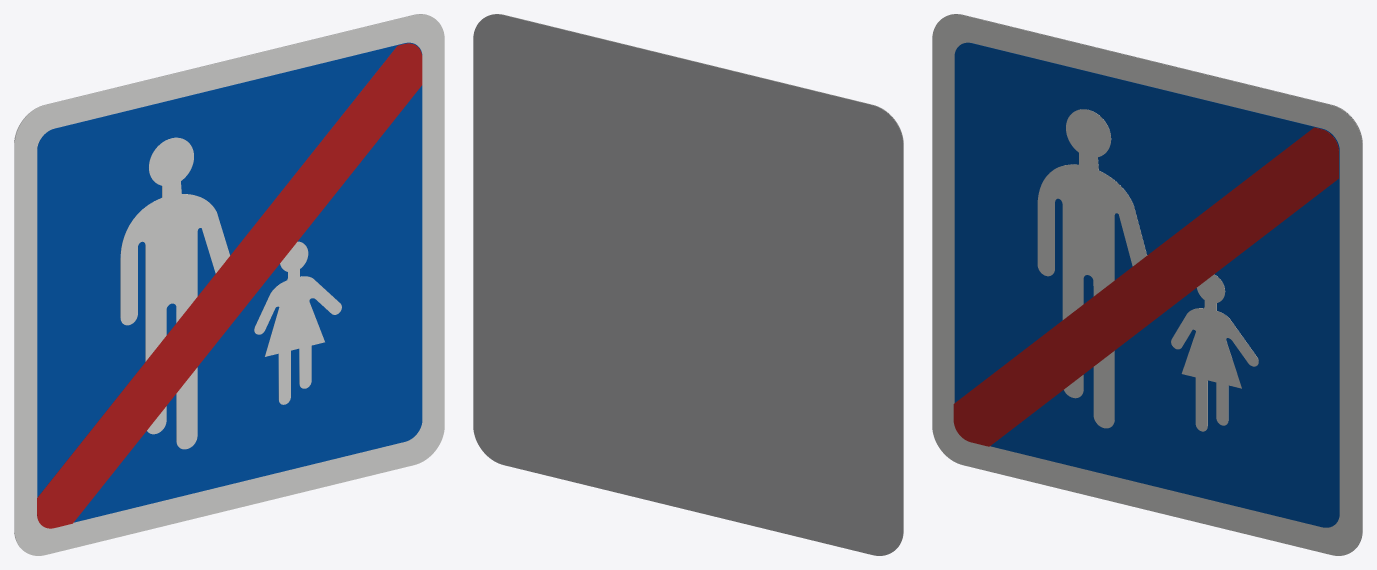
3 views of the same model, side by side, from view 1: azimuth 30°, elevation 25°; view 2: azimuth 150°, elevation 25°; view 3: azimuth 330°, elevation 25° (orthographic).
Visible parts, largest first — view 1: B55_p01, B55_p00, B55_p04, B55_p02, B55_p03, B55_dos; view 2: B55_dos, B55_p00; view 3: B55_p01, B55_p00, B55_p04, B55_p02, B55_p03, B55_dos.
Boxes of the visible parts, x1,y1,x2,y2 form: B55_p01: [37, 42, 422, 522]; B55_p00: [14, 14, 444, 555]; B55_p04: [37, 43, 422, 528]; B55_p02: [120, 137, 229, 449]; B55_p03: [254, 241, 341, 404]; B55_dos: [14, 14, 426, 546]; B55_dos: [473, 14, 903, 555]; B55_p00: [491, 14, 903, 546]; B55_p01: [954, 42, 1339, 527]; B55_p00: [932, 14, 1362, 555]; B55_p04: [953, 127, 1338, 446]; B55_p02: [1037, 109, 1147, 428]; B55_p03: [1171, 274, 1258, 431]; B55_dos: [950, 14, 1362, 546].
Bounding box in the file's own units: 0.85 × 0.8498 × 0.0035.
